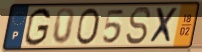0: (51, 7, 76, 47)
5: (101, 8, 127, 44)
G: (24, 7, 53, 48)
O: (74, 7, 101, 46)
S: (124, 6, 153, 46)
X: (148, 6, 179, 45)
